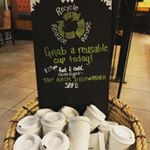cups: (66, 115, 93, 150), (106, 123, 137, 150), (38, 110, 67, 138)
